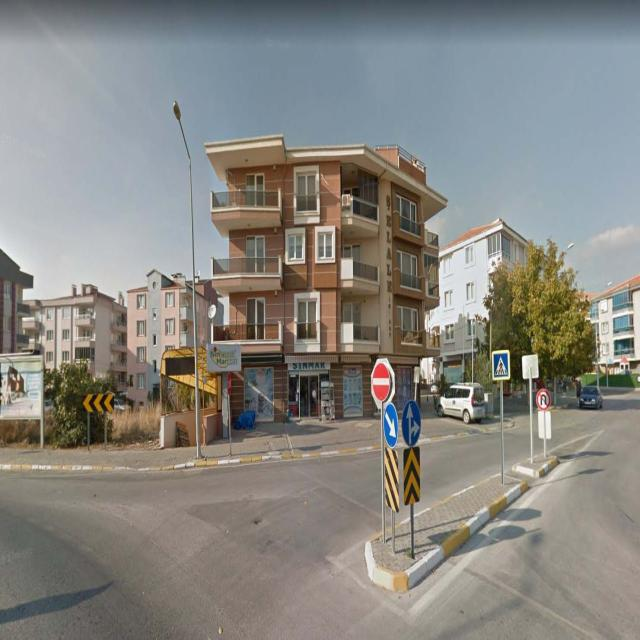girisyok: (372, 365, 389, 402)
ilerisag: (401, 401, 420, 444)
